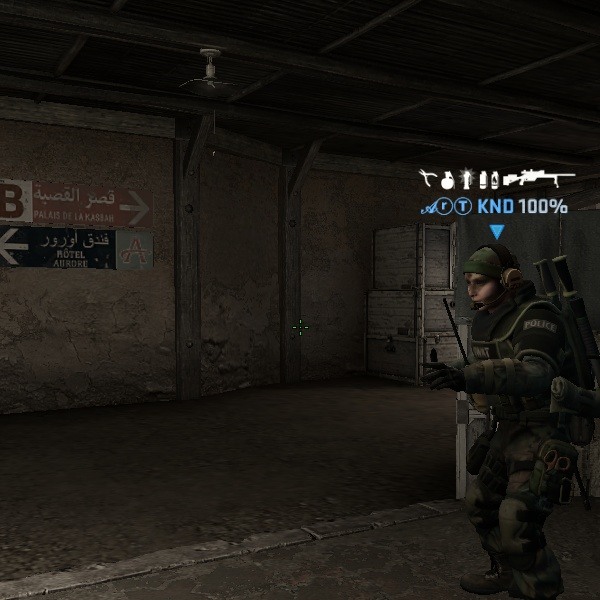ct_body: (399, 220, 600, 600)
ct_head: (446, 229, 541, 327)
